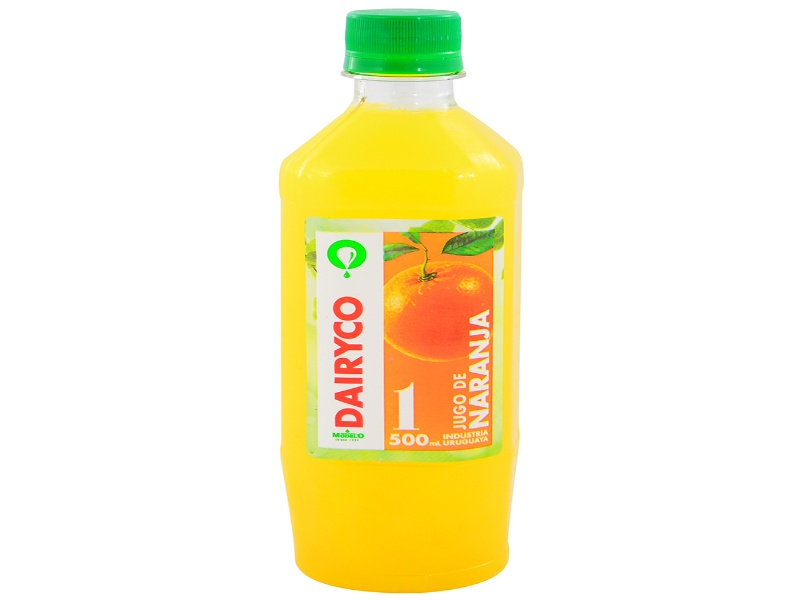Jugo de naranja: (280, 10, 526, 595)
